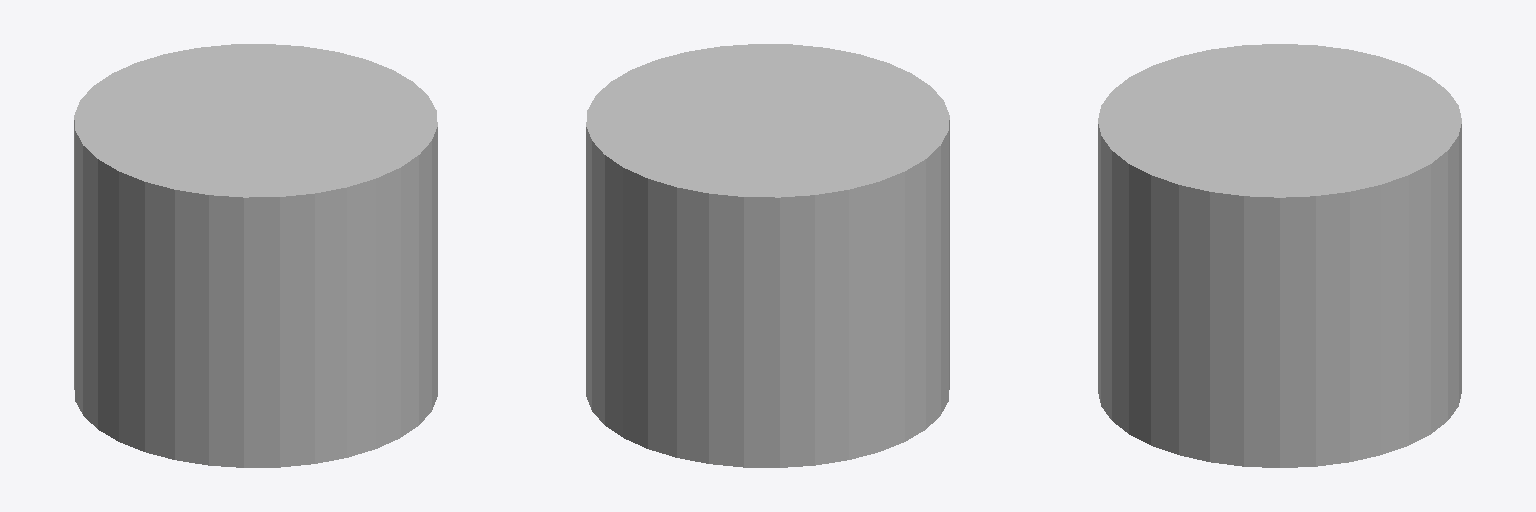
Rendered from potsoup.obj.
The picture shows the model from 3 angles: view 1: azimuth 30°, elevation 25°; view 2: azimuth 150°, elevation 25°; view 3: azimuth 270°, elevation 25°; orthographic projection.
Parts seen in each view (by area): view 1: Cylinder.001; view 2: Cylinder.001; view 3: Cylinder.001.
Boxes of the visible parts, x1=… form: Cylinder.001: x1=74, y1=44, x2=437, y2=467; Cylinder.001: x1=586, y1=44, x2=949, y2=467; Cylinder.001: x1=1098, y1=44, x2=1461, y2=467.
Size of the model in its own units: 1.79 by 1.47 by 1.79.